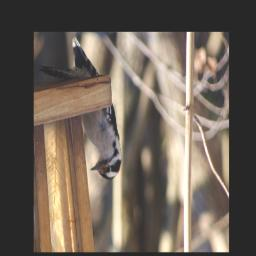Woodpecker: (38, 39, 122, 180)
